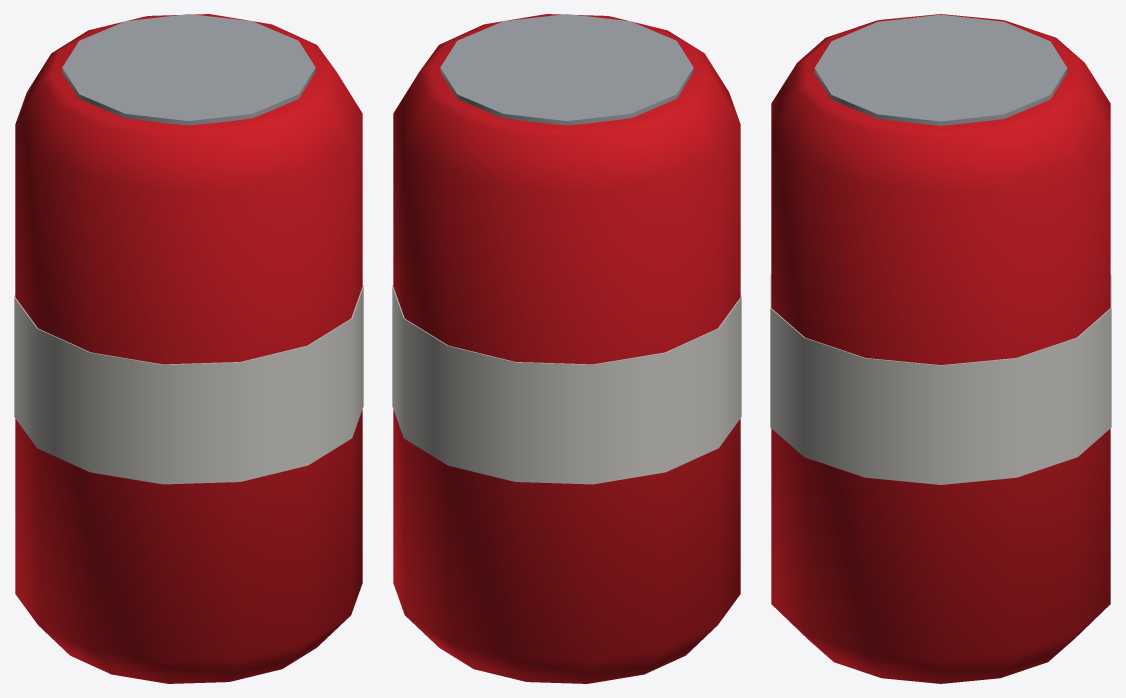
Rendered from drink-can.glb.
3 renders of one model, left to right at view 1: azimuth 30°, elevation 25°; view 2: azimuth 150°, elevation 25°; view 3: azimuth 270°, elevation 25°, orthographic.
Parts seen in each view (by area): view 1: BODY; view 2: BODY; view 3: BODY.
Part boxes in pixels (box(x1,y1,x2,y2)): BODY: box(14, 14, 363, 683); BODY: box(392, 14, 741, 683); BODY: box(770, 14, 1111, 683).
Bounding box in the file's own units: 0.0664 × 0.1168 × 0.0647.
